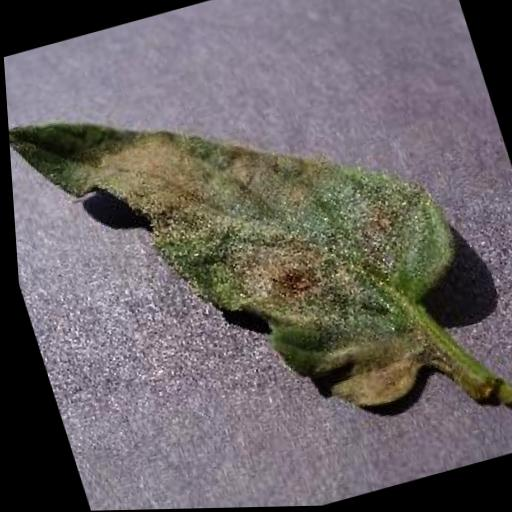Late Blight: (1, 20, 493, 480)
